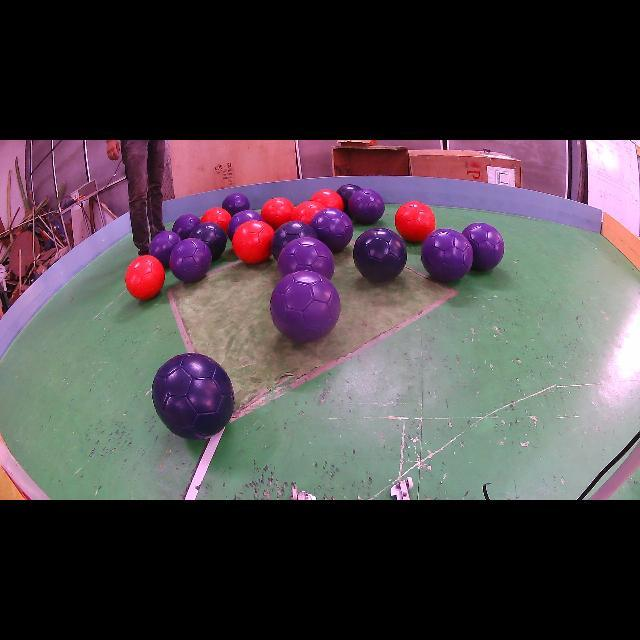B: (151, 352, 234, 439), (352, 228, 408, 281), (271, 220, 318, 260), (189, 222, 228, 259), (336, 184, 360, 215)
P: (270, 270, 340, 342), (421, 229, 474, 281), (278, 238, 335, 279), (461, 222, 504, 270), (310, 208, 354, 252), (170, 238, 212, 282), (349, 189, 385, 224), (150, 231, 181, 268), (228, 210, 264, 239), (172, 214, 200, 240), (222, 192, 250, 216)
R: (232, 220, 274, 264), (125, 255, 165, 300), (395, 201, 435, 242), (260, 198, 294, 230), (290, 200, 325, 225), (310, 189, 344, 211), (200, 208, 231, 232)
